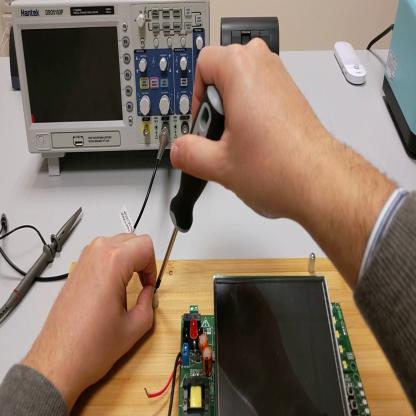hand: (175, 40, 322, 226), (44, 227, 158, 392)
low voltage board: (146, 276, 370, 412)
oscilloscope: (11, 1, 212, 177)
oscilloscope probe tip: (3, 209, 83, 324)
screwdriver-: (155, 87, 223, 290)
socket: (9, 28, 22, 93)
welder station: (383, 3, 416, 159)
working area: (65, 254, 414, 416)
